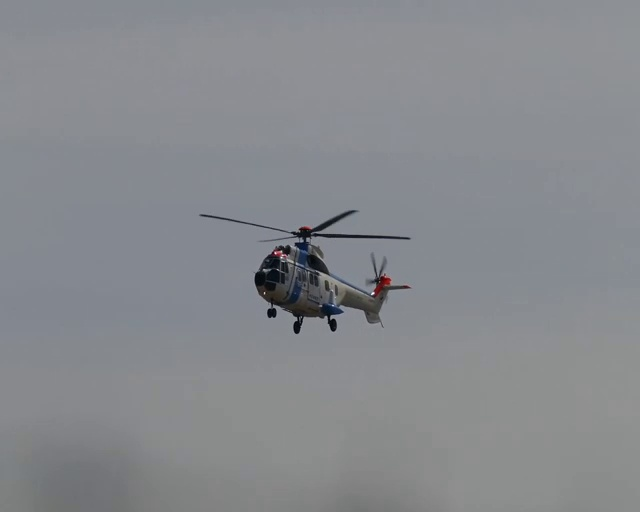HELICOPTER: (197, 208, 414, 334)
